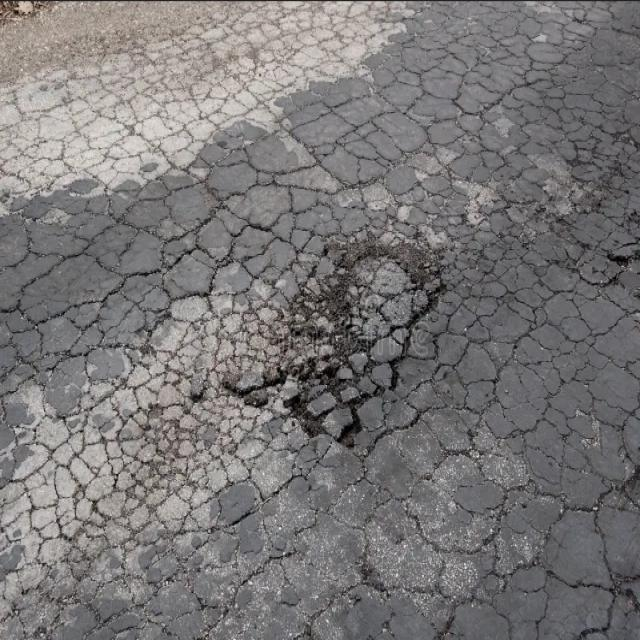Drain Hole: (35, 55, 640, 640)
